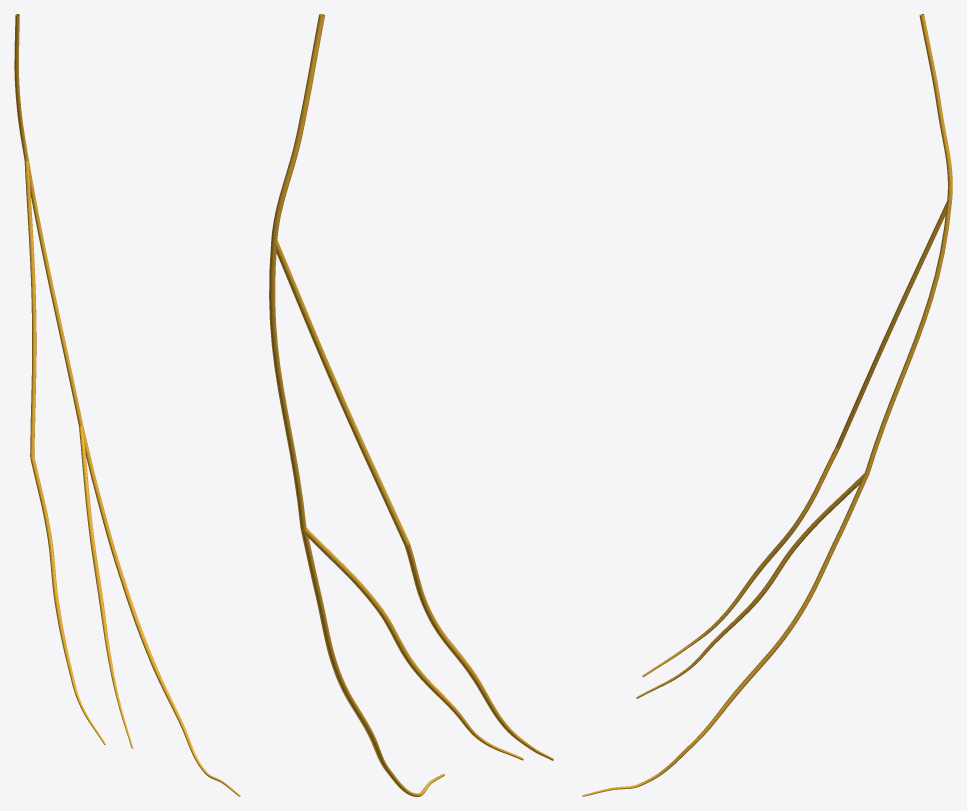
Rendered from nervoso-dorsal-branch-of-ulnar-nerve-l.glb.
The picture shows the model from 3 angles, left to right: view 1: azimuth 30°, elevation 25°; view 2: azimuth 150°, elevation 25°; view 3: azimuth 270°, elevation 25°; orthographic projection. The views are drawn at different scales.
Parts seen in each view (by area): view 1: Dorsal digital branches of ulnar nerve.l, Dorsal branch of ulnar nerve.l; view 2: Dorsal branch of ulnar nerve.l, Dorsal digital branches of ulnar nerve.l; view 3: Dorsal digital branches of ulnar nerve.l, Dorsal branch of ulnar nerve.l.
Part boxes in pixels (left/top/right/bottom): Dorsal digital branches of ulnar nerve.l: left=30, top=426, right=240, bottom=796; Dorsal branch of ulnar nerve.l: left=14, top=14, right=83, bottom=457; Dorsal branch of ulnar nerve.l: left=269, top=14, right=409, bottom=546; Dorsal digital branches of ulnar nerve.l: left=301, top=527, right=553, bottom=796; Dorsal digital branches of ulnar nerve.l: left=582, top=447, right=868, bottom=796; Dorsal branch of ulnar nerve.l: left=835, top=14, right=952, bottom=474.
Bounding box in the file's own units: 0.0292 × 0.1697 × 0.0763.
